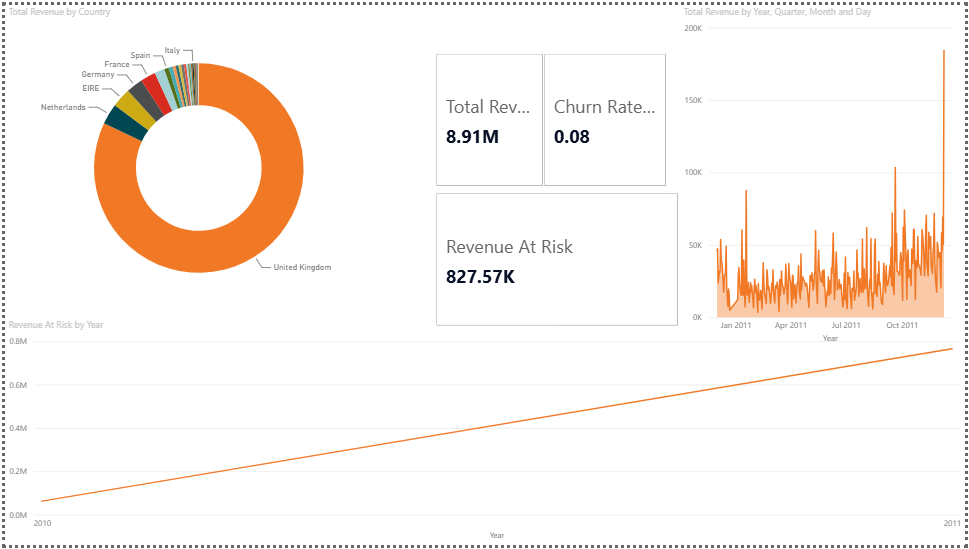

The page's visual inventory and layout, read from the dashboard file:
{"tool":"powerbi","page":{"name":"Executive Overview","canvas":[1280,720],"ordinal":0},"visuals":[{"type":"cardVisual","fields":{"Data":["cleaned_online_retail.Total Revenue"]},"box":[570,60,152,186],"z":0},{"type":"cardVisual","fields":{"Data":["rfm_customer_segments (2).Revenue At Risk"]},"box":[570,246,316,186],"z":1000},{"type":"cardVisual","fields":{"Data":["rfm_customer_segments (2).Churn Rate Pct"]},"box":[714,60,172,186],"z":2000},{"type":"areaChart","fields":{"Y":["cleaned_online_retail.Total Revenue"],"Category":["cleaned_online_retail.InvoiceDate.Variation.Date Hierarchy.Year","cleaned_online_retail.InvoiceDate.Variation.Date Hierarchy.Quarter","cleaned_online_retail.InvoiceDate.Variation.Date Hierarchy.Month","cleaned_online_retail.InvoiceDate.Variation.Date Hierarchy.Day"]},"box":[900.7,0,378.6,455.1],"z":3000},{"type":"donutChart","fields":{"Category":["cleaned_online_retail.Country"],"Y":["cleaned_online_retail.Total Revenue"]},"box":[0,0,516,418],"z":4000},{"type":"lineChart","fields":{"Category":["cleaned_online_retail.InvoiceDate.Variation.Date Hierarchy.Year","cleaned_online_retail.InvoiceDate.Variation.Date Hierarchy.Quarter","cleaned_online_retail.InvoiceDate.Variation.Date Hierarchy.Month","cleaned_online_retail.InvoiceDate.Variation.Date Hierarchy.Day"],"Y":["rfm_customer_segments (2).Revenue At Risk"]},"box":[0,418.8,1279.4,300.2],"z":5000}]}

Visuals, with their boxes in screenshot pixels (x1, y1, x2, y2), scaled from the page's 1280x720 canvas onto the 969x549 screenshot:
cardVisual - cleaned_online_retail.Total Revenue: [x1=432, y1=46, x2=547, y2=188]
cardVisual - rfm_customer_segments (2).Revenue At Risk: [x1=432, y1=188, x2=671, y2=329]
cardVisual - rfm_customer_segments (2).Churn Rate Pct: [x1=541, y1=46, x2=671, y2=188]
areaChart - cleaned_online_retail.Total Revenue x cleaned_online_retail.InvoiceDate.Variation.Date Hierarchy.Year: [x1=682, y1=0, x2=968, y2=347]
donutChart - cleaned_online_retail.Country x cleaned_online_retail.Total Revenue: [x1=0, y1=0, x2=391, y2=319]
lineChart - cleaned_online_retail.InvoiceDate.Variation.Date Hierarchy.Year x cleaned_online_retail.InvoiceDate.Variation.Date Hierarchy.Quarter: [x1=0, y1=319, x2=968, y2=548]
